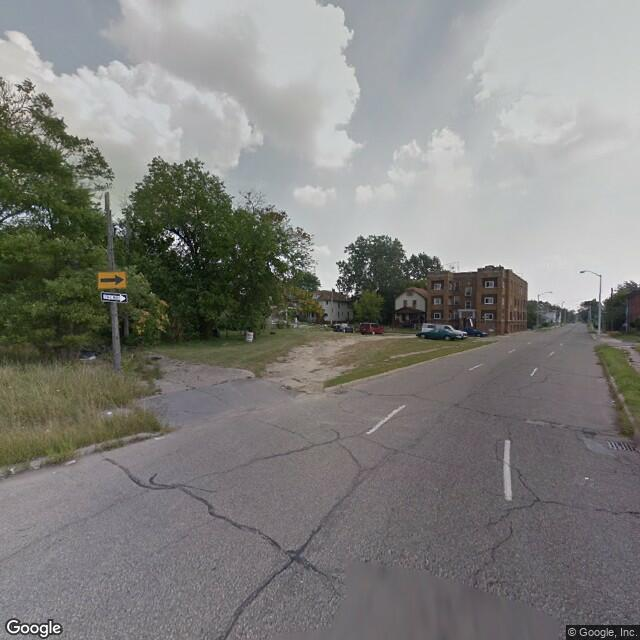litter: (59, 458, 76, 467), (103, 409, 117, 419)
